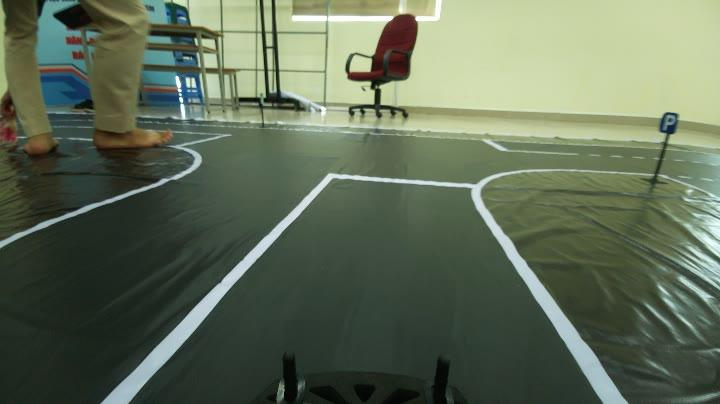parking: (658, 104, 681, 139)
